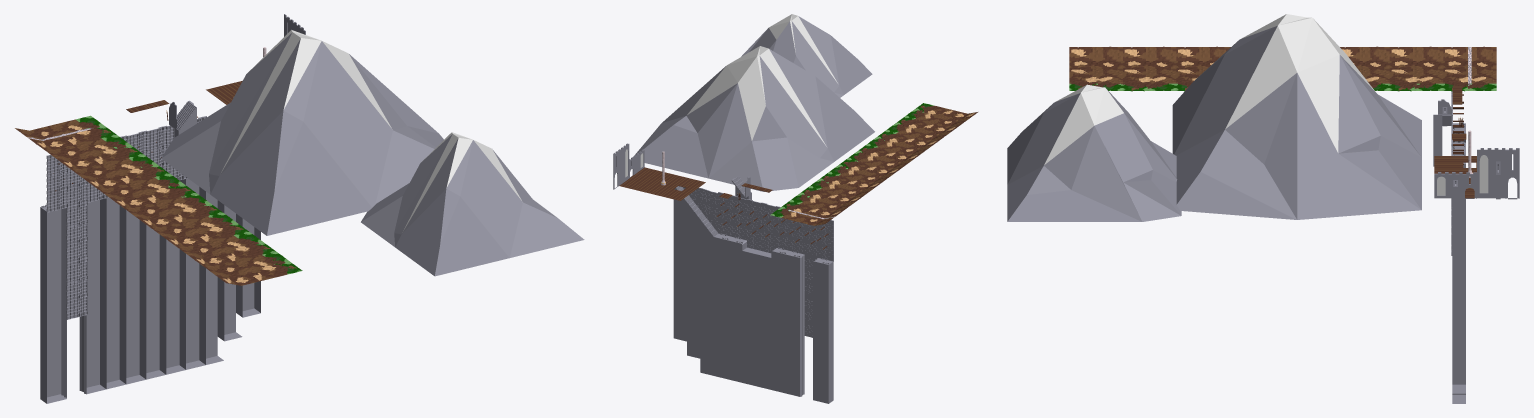
The model's file is Castle&DungeonPack1.fbx.
3 renders of one model, left to right at view 1: azimuth 30°, elevation 25°; view 2: azimuth 150°, elevation 25°; view 3: azimuth 270°, elevation 25°, orthographic. The views are drawn at different scales.
Visible parts, largest first — view 1: Mountains_1, DungeonLavaTile_1, DungeonAbyssTile_1, Ground_5, Ground_7, Ground_6, Ground_4, DungeonTile_1, DungeonStairs_3__!!REPEAT_TO_GO_DEEPER!!__, Hill_3, DungeonStairs_2, DungeonStairs_1; view 2: Mountains_1, DungeonLavaTile_1, DungeonAbyssTile_1, DungeonTile_1, DungeonStairs_3__!!REPEAT_TO_GO_DEEPER!!__, DungeonStairs_2, DungeonStairs_1, Ground_6, Ground_7, Ground_5, Ground_4, DungeonEntrance_1 (+1 smaller); view 3: Mountains_1, Hill_3, DungeonStairs_1, Ground_6, Ground_5, Ground_4, Ground_7, DungeonEntrance_1, ThroneWall_1, ThroneWindow_1, ThroneEntrance_1.
Part boxes in pixels (<box>): Mountains_1: <box>161,30,584,276</box>; DungeonLavaTile_1: <box>100,125,187,389</box>; DungeonAbyssTile_1: <box>40,154,107,403</box>; Ground_5: <box>45,123,271,281</box>; Ground_7: <box>76,115,302,274</box>; Ground_6: <box>30,127,256,285</box>; Ground_4: <box>60,119,286,278</box>; DungeonTile_1: <box>179,116,206,369</box>; DungeonStairs_3__!!REPEAT_TO_GO_DEEPER!!__: <box>199,187,223,364</box>; Hill_3: <box>15,128,240,285</box>; DungeonStairs_2: <box>217,200,242,341</box>; DungeonStairs_1: <box>236,214,260,317</box>; Mountains_1: <box>633,14,874,191</box>; DungeonLavaTile_1: <box>728,195,790,393</box>; DungeonAbyssTile_1: <box>785,220,833,403</box>; DungeonTile_1: <box>713,192,732,379</box>; DungeonStairs_3__!!REPEAT_TO_GO_DEEPER!!__: <box>700,189,718,375</box>; DungeonStairs_2: <box>687,187,705,358</box>; DungeonStairs_1: <box>673,186,691,341</box>; Ground_6: <box>803,111,967,225</box>; Ground_7: <box>770,103,933,217</box>; Ground_5: <box>792,108,955,222</box>; Ground_4: <box>781,105,944,220</box>; DungeonEntrance_1: <box>619,167,705,200</box>; Mountains_1: <box>1007,14,1421,221</box>; Hill_3: <box>1069,46,1496,61</box>; DungeonStairs_1: <box>1452,198,1465,383</box>; Ground_6: <box>1069,60,1496,68</box>; Ground_5: <box>1069,68,1496,76</box>; Ground_4: <box>1069,75,1496,83</box>; Ground_7: <box>1069,83,1496,91</box>; DungeonEntrance_1: <box>1434,156,1476,198</box>; ThroneWall_1: <box>1491,148,1505,199</box>; ThroneWindow_1: <box>1477,148,1491,198</box>; ThroneEntrance_1: <box>1505,148,1519,199</box>.
Size of the model in its own units: 214 by 240 by 288.
